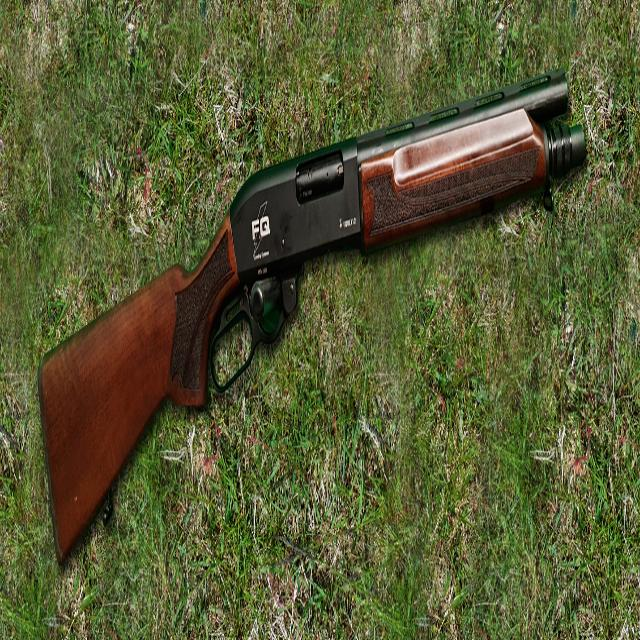Weapon: (39, 69, 586, 560)
